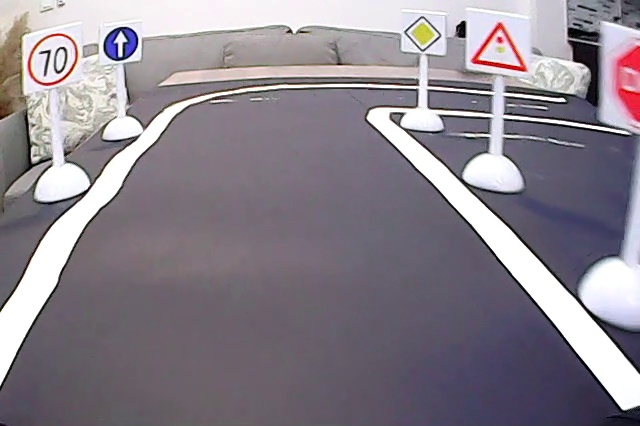red light: (468, 11, 530, 74)
speed limit 70: (26, 34, 76, 89)
stop sign: (606, 27, 640, 122)
